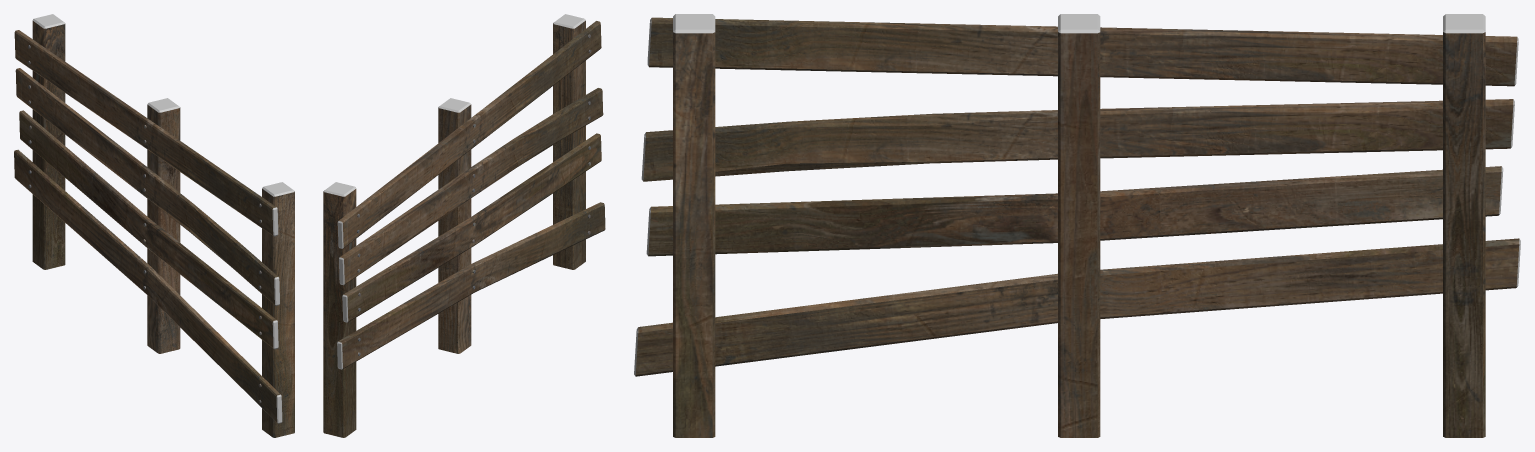
File: SM_KB3D_ENC_BldgSmWatermill_A_Fence.fbx
The picture shows the model from 3 angles, left to right: view 1: azimuth 30°, elevation 25°; view 2: azimuth 150°, elevation 25°; view 3: azimuth 270°, elevation 25°; orthographic projection. The views are drawn at different scales.
Visible parts, largest first — view 1: KB3D_ENC_BldgSmWatermill_A_Fence; view 2: KB3D_ENC_BldgSmWatermill_A_Fence; view 3: KB3D_ENC_BldgSmWatermill_A_Fence.
Part boxes in pixels (<box>): KB3D_ENC_BldgSmWatermill_A_Fence: <box>14,14,294,437</box>; KB3D_ENC_BldgSmWatermill_A_Fence: <box>323,14,605,437</box>; KB3D_ENC_BldgSmWatermill_A_Fence: <box>634,14,1520,437</box>.
Bounding box in the file's own units: 14.09 × 107 × 211.
